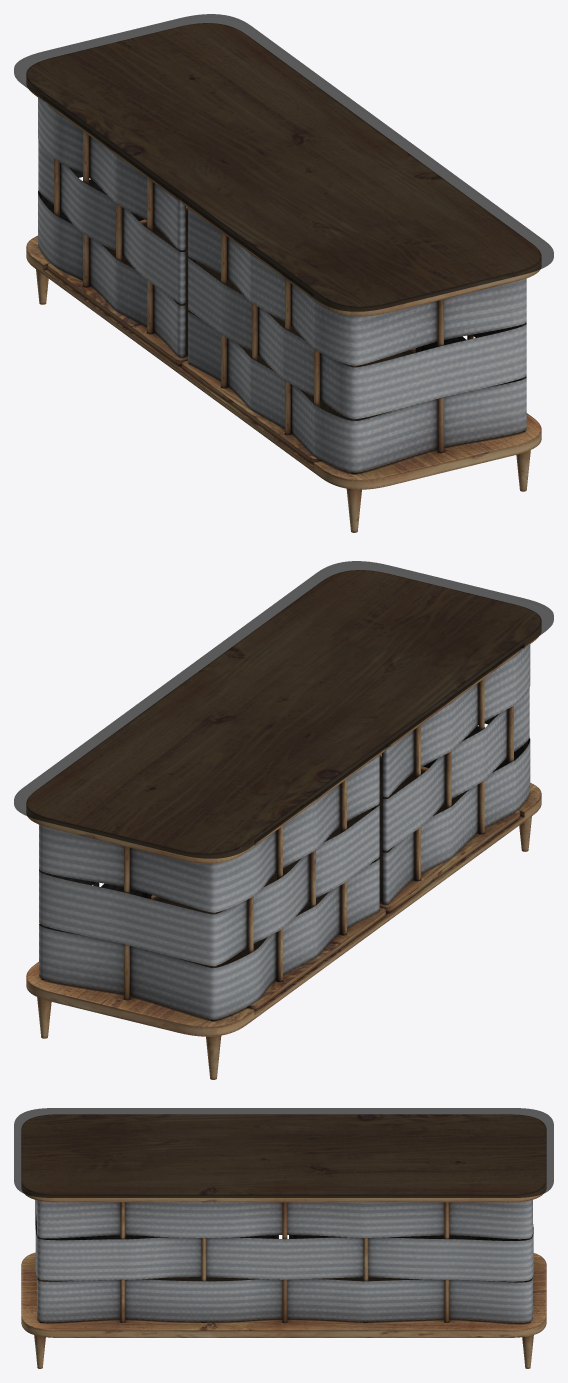
File: table.glb
3 views of the same model, one above another, from view 1: azimuth 30°, elevation 25°; view 2: azimuth 150°, elevation 25°; view 3: azimuth 270°, elevation 25° (orthographic). The views are drawn at different scales.
Parts seen in each view (by area): view 1: 03_legs, Object001_Glass Clear_0; view 2: 03_legs, Object001_Glass Clear_0; view 3: 03_legs, Object001_Glass Clear_0.
Part boxes in pixels (x1=…): 03_legs: x1=26, y1=23, x2=541, y2=532; Object001_Glass Clear_0: x1=14, y1=14, x2=553, y2=311; 03_legs: x1=26, y1=570, x2=541, y2=1079; Object001_Glass Clear_0: x1=14, y1=561, x2=553, y2=858; 03_legs: x1=21, y1=1114, x2=546, y2=1368; Object001_Glass Clear_0: x1=14, y1=1108, x2=553, y2=1197.
Bounding box in the file's own units: 0.5956 × 0.588 × 1.56.
4 materials, 3 textured.
